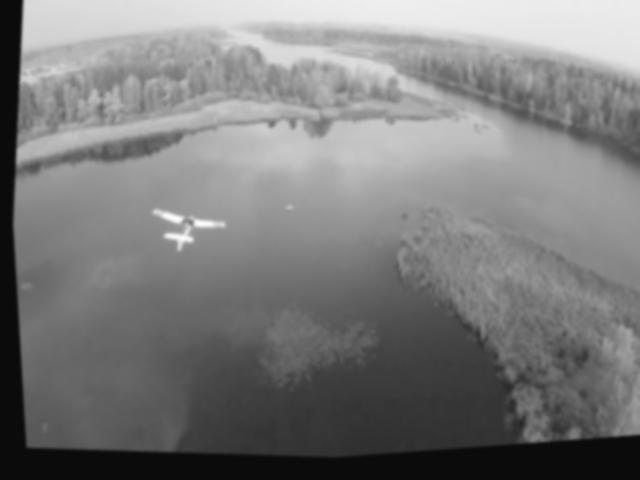hedef: (140, 202, 230, 265)
